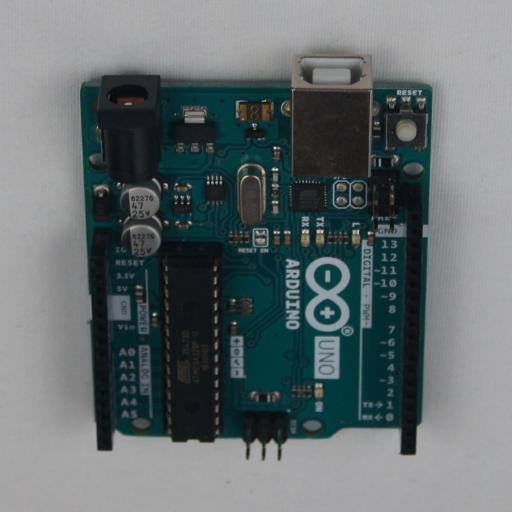Arduino Uno -Green-: (80, 56, 432, 461)
